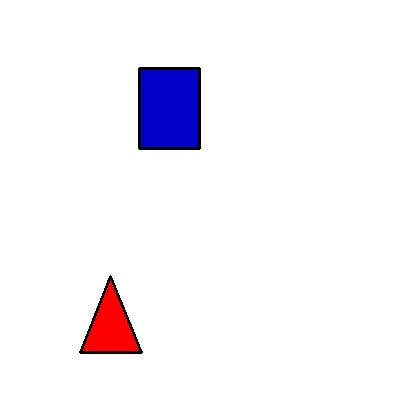rectangle: (139, 68, 199, 148)
triangle: (80, 276, 141, 352)
